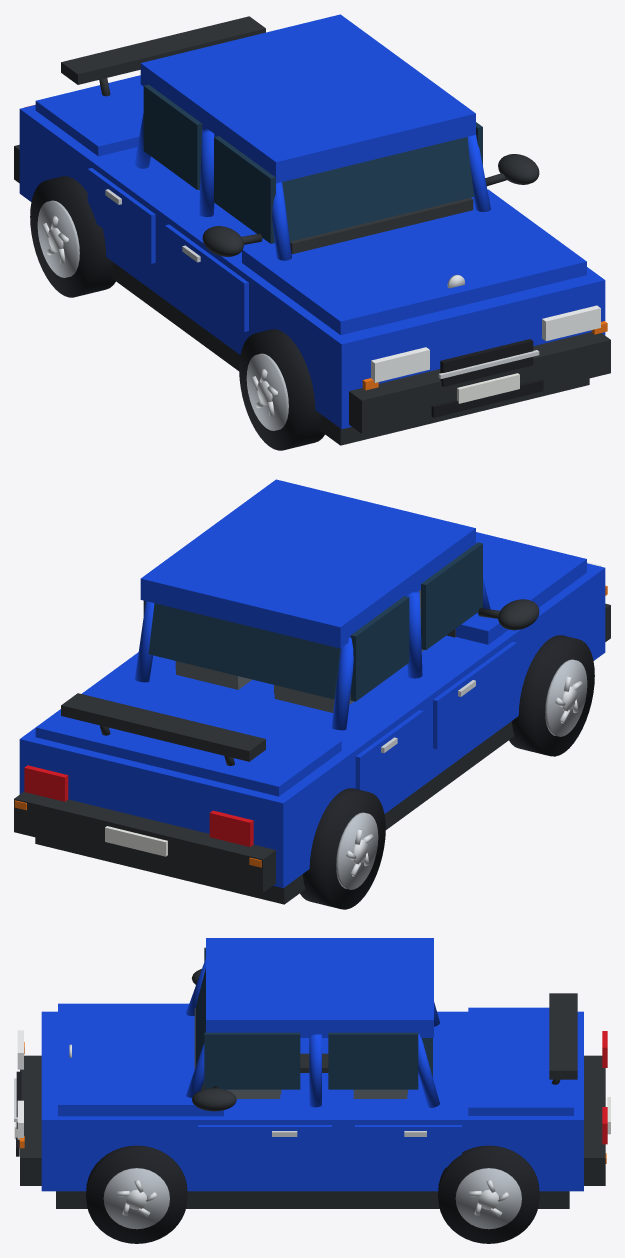
The model's file is auto6.glb.
3 renders of one model, top to bottom at view 1: azimuth 30°, elevation 25°; view 2: azimuth 150°, elevation 25°; view 3: azimuth 270°, elevation 25°, orthographic. The views are drawn at different scales.
Visible parts, largest first — view 1: Techo azul, Carroceria azul electrico, Capo azul, Parabrisas delantero, Defensa delantera, Cajuela azul, Neumatico delantero Izquierdo, Neumatico trasero Izquierdo, Aleron deportivo, Chasis inferior, Puerta delantera Izquierdo, Ventana delantera Izquierdo (+16 smaller); view 2: Carroceria azul electrico, Techo azul, Cajuela azul, Defensa trasera, Cristal trasero, Capo azul, Aleron deportivo, Neumatico trasero Izquierdo, Neumatico delantero Izquierdo, Chasis inferior, Ventana delantera Izquierdo, Puerta delantera Izquierdo (+13 smaller); view 3: Carroceria azul electrico, Techo azul, Capo azul, Cajuela azul, Chasis inferior, Puerta delantera Derecho, Ventana delantera Derecho, Ventana trasera Derecho, Neumatico delantero Derecho, Neumatico trasero Derecho, Puerta trasera Derecho, Defensa trasera (+11 smaller).
Boxes of the visible parts, x1,y1,x2,y2 form: Techo azul: (140,14,475,183); Carroceria azul electrico: (19,105,605,429); Capo azul: (242,189,586,334); Parabrisas delantero: (282,137,474,241); Defensa delantera: (349,332,610,433); Cajuela azul: (35,75,143,156); Neumatico delantero Izquierdo: (239,329,324,450); Neumatico trasero Izquierdo: (30,176,115,297); Aleron deportivo: (61,16,265,84); Chasis inferior: (110,262,589,445); Puerta delantera Izquierdo: (165,224,248,331); Ventana delantera Izquierdo: (214,136,275,243); Carroceria azul electrico: (19,563,605,887); Techo azul: (140,479,475,648); Cajuela azul: (35,681,341,796); Defensa trasera: (14,791,275,892); Cristal trasero: (148,603,340,699); Capo azul: (455,532,586,644); Aleron deportivo: (61,693,265,761); Neumatico trasero Izquierdo: (300,788,385,909); Neumatico delantero Izquierdo: (509,635,594,756); Chasis inferior: (35,721,514,904); Ventana delantera Izquierdo: (421,542,482,649); Puerta delantera Izquierdo: (433,642,516,749); Carroceria azul electrico: (41,1011,583,1191); Techo azul: (206,938,433,1037); Capo azul: (58,1003,223,1116); Cajuela azul: (468,1007,573,1115); Chasis inferior: (56,1191,569,1208); Puerta delantera Derecho: (198,1125,331,1167); Ventana delantera Derecho: (204,1032,300,1089); Ventana trasera Derecho: (328,1032,418,1089); Neumatico delantero Derecho: (86,1145,187,1243); Neumatico trasero Derecho: (438,1145,539,1243); Puerta trasera Derecho: (355,1125,461,1167); Defensa trasera: (584,1055,605,1185).
Bounding box in the file's own units: 2.26 × 1.6 × 4.24.
